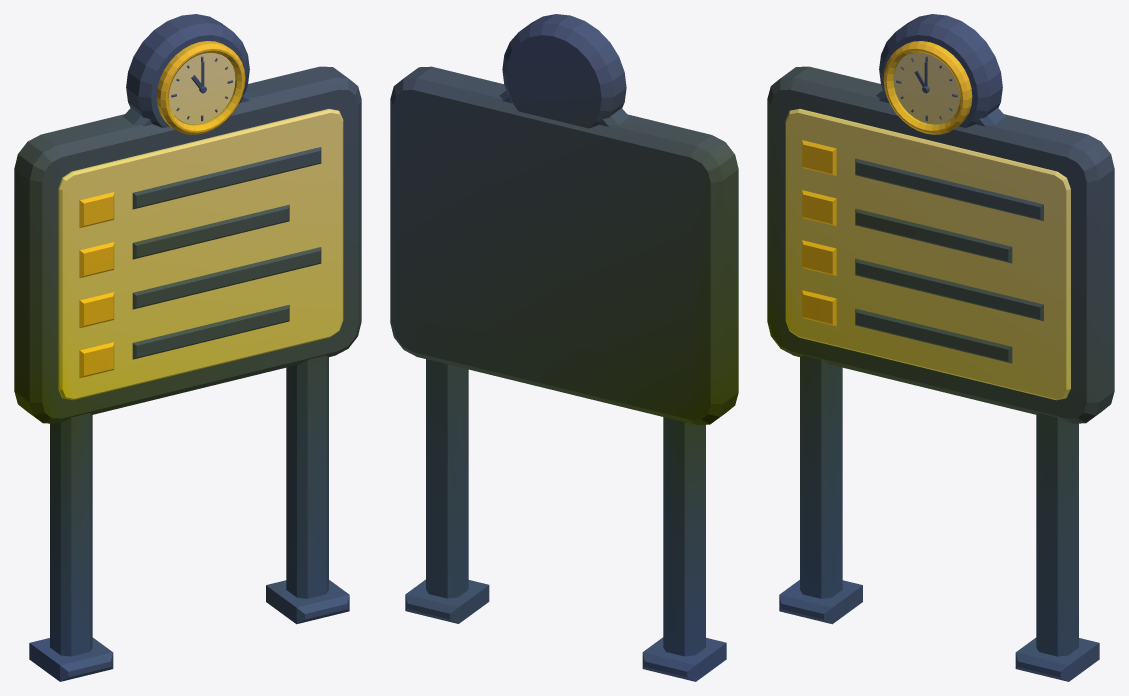
The model's file is Prop_Timetable.glb.
3 renders of one model, left to right at view 1: azimuth 30°, elevation 25°; view 2: azimuth 150°, elevation 25°; view 3: azimuth 330°, elevation 25°, orthographic.
Visible parts, largest first — view 1: Prop_Timetable; view 2: Prop_Timetable; view 3: Prop_Timetable.
Boxes of the visible parts, left/top/right/bottom form: Prop_Timetable: left=14, top=14, right=361, bottom=681; Prop_Timetable: left=390, top=14, right=738, bottom=681; Prop_Timetable: left=767, top=14, right=1114, bottom=681.
Bounding box in the file's own units: 1.25 × 2.21 × 0.24.
